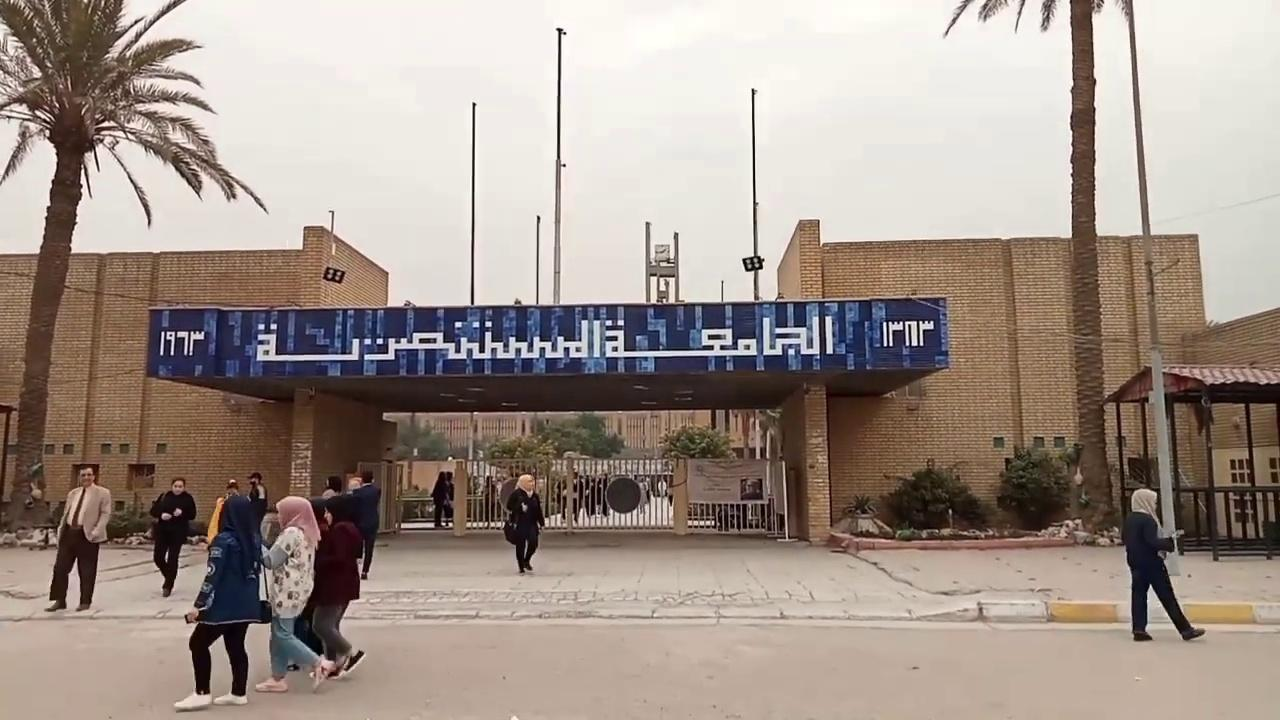person: (172, 494, 266, 711), (254, 495, 336, 693), (1122, 488, 1206, 641), (308, 495, 366, 679), (44, 465, 112, 612), (148, 476, 196, 597), (506, 473, 545, 574), (349, 470, 381, 580), (205, 479, 240, 547), (430, 470, 453, 528), (246, 471, 267, 529), (321, 475, 341, 498)
tree: (0, 0, 267, 532), (943, 0, 1129, 530), (995, 440, 1083, 530), (880, 459, 980, 530), (656, 421, 736, 505), (482, 433, 556, 517), (656, 421, 736, 461)
